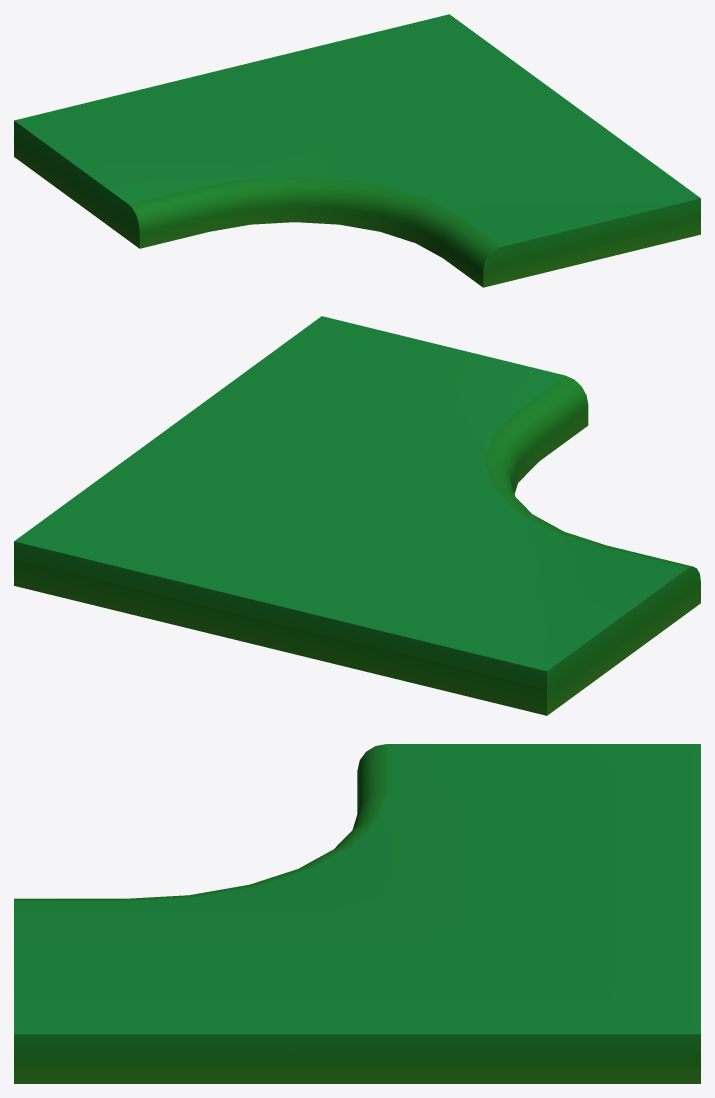
Rendered from GF_ICorner_1_1.obj.
The picture shows the model from 3 angles, top to bottom: view 1: azimuth 30°, elevation 25°; view 2: azimuth 150°, elevation 25°; view 3: azimuth 270°, elevation 25°; orthographic projection. The views are drawn at different scales.
Parts seen in each view (by area): view 1: GF_ICorner_1_1; view 2: GF_ICorner_1_1; view 3: GF_ICorner_1_1.
Part boxes in pixels (box(x1,y1,x2,y2)): GF_ICorner_1_1: box(14, 14, 700, 287); GF_ICorner_1_1: box(14, 316, 700, 715); GF_ICorner_1_1: box(14, 744, 700, 1083).
Size of the model in its own units: 4 by 0.3187 by 4.
